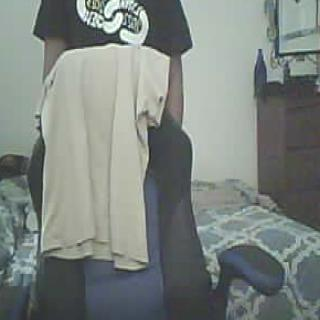Yellow T-Shirt: (33, 44, 170, 274)
